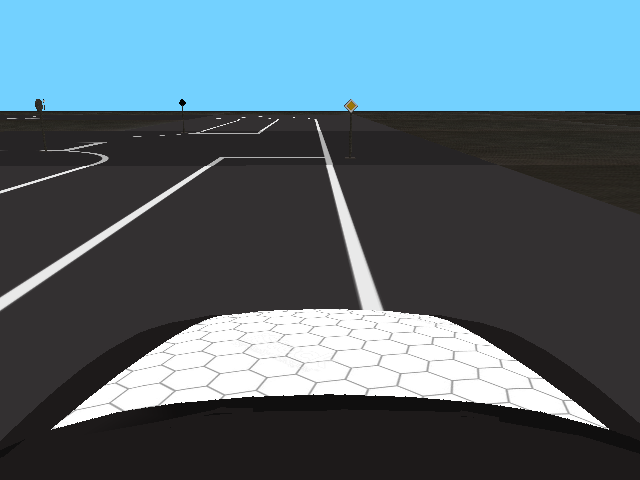yellow_light: (344, 99, 358, 113)
